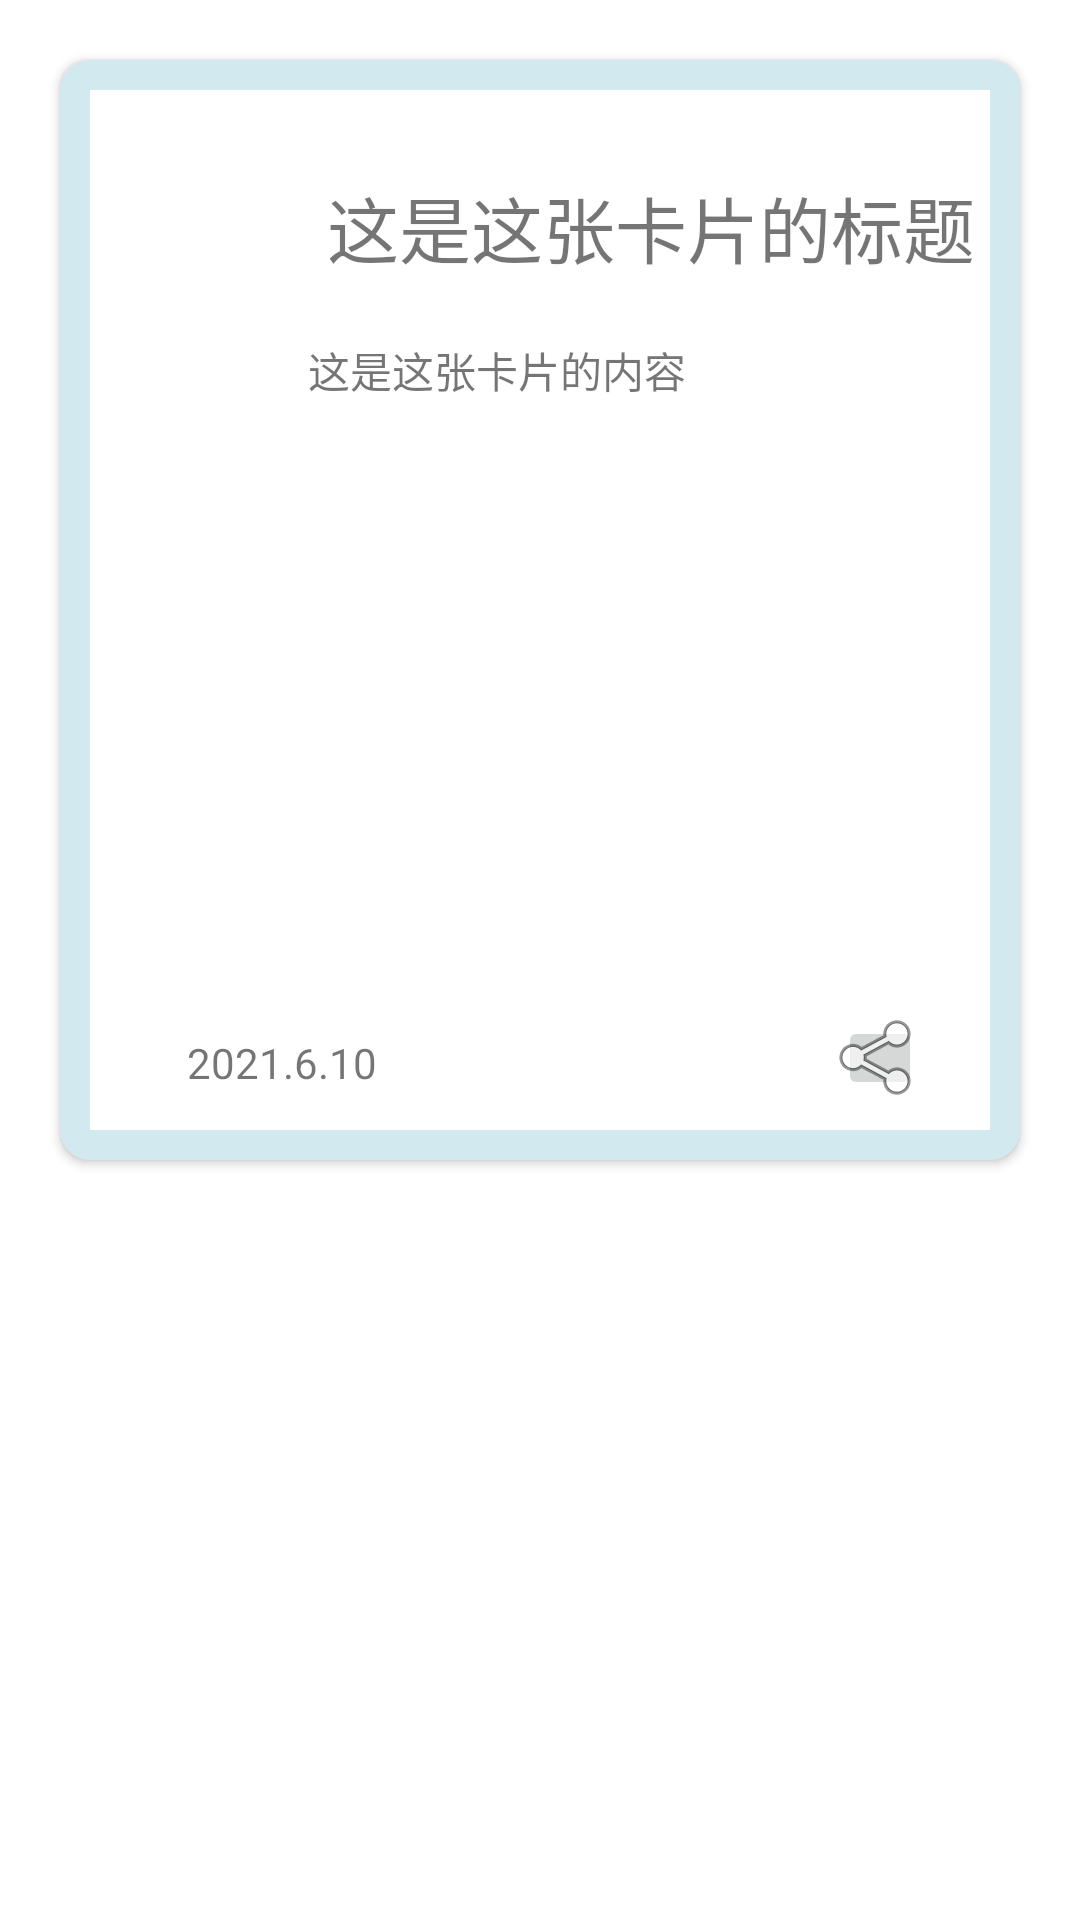

Point at icon controls on the screen. Image size 1080px x 1920px, points as (x,y).
share: (875,1057)
